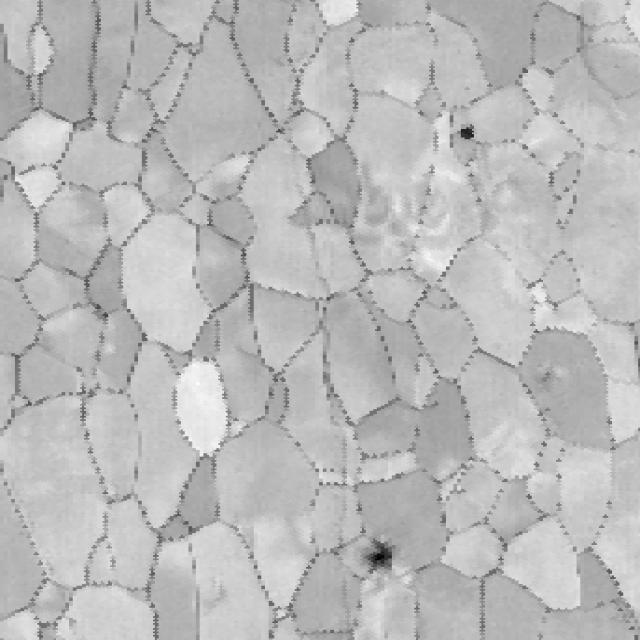good_void: (348, 537, 417, 574), (436, 117, 491, 155), (530, 359, 558, 392), (413, 422, 424, 440), (411, 361, 425, 373), (68, 615, 78, 628)
